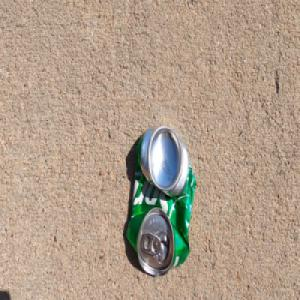SodaCan: (125, 123, 196, 277)
